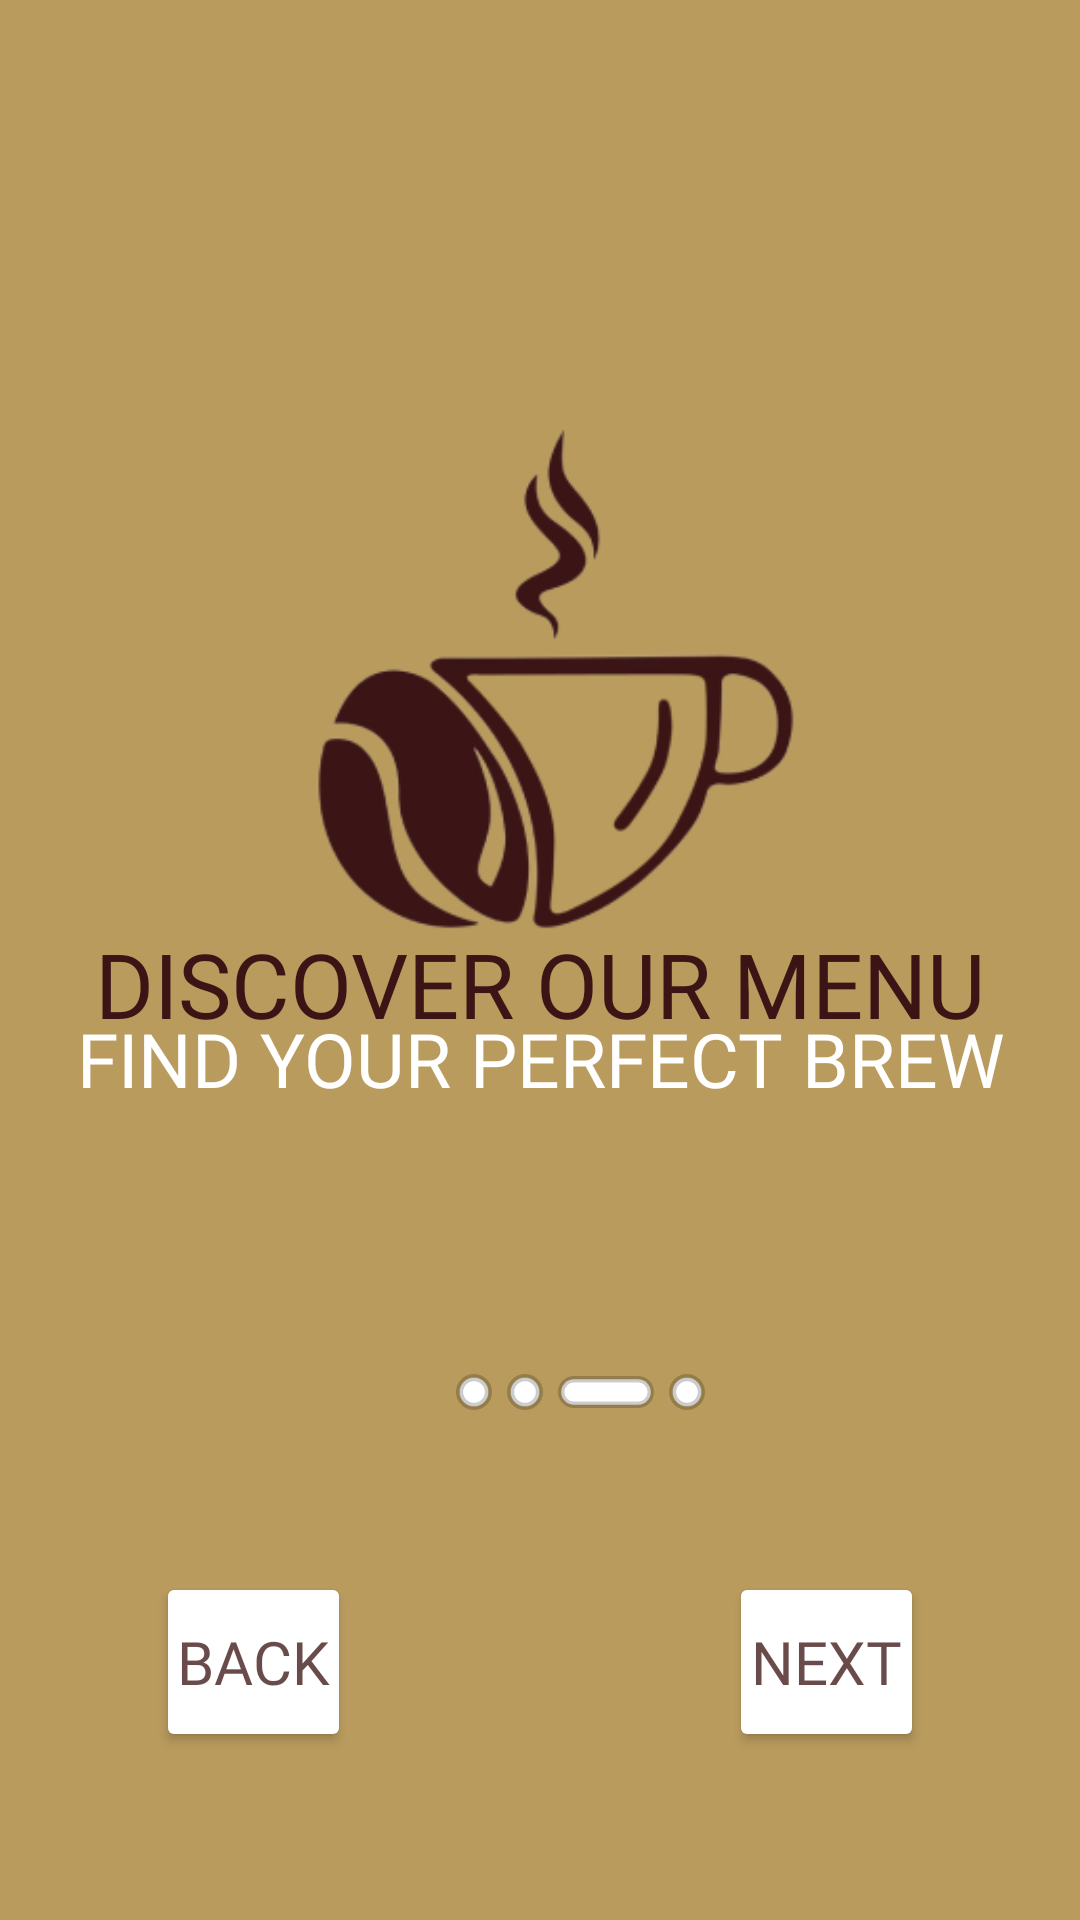

Icons on this 1080 x 1920 Android screen, each with the point to tap as [x,y]:
dot shape: [474,1392], [525,1392], [687,1392]
line shape: [606,1392]
